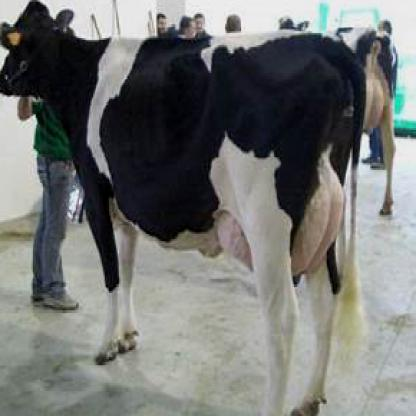cow: (1, 0, 365, 415)
